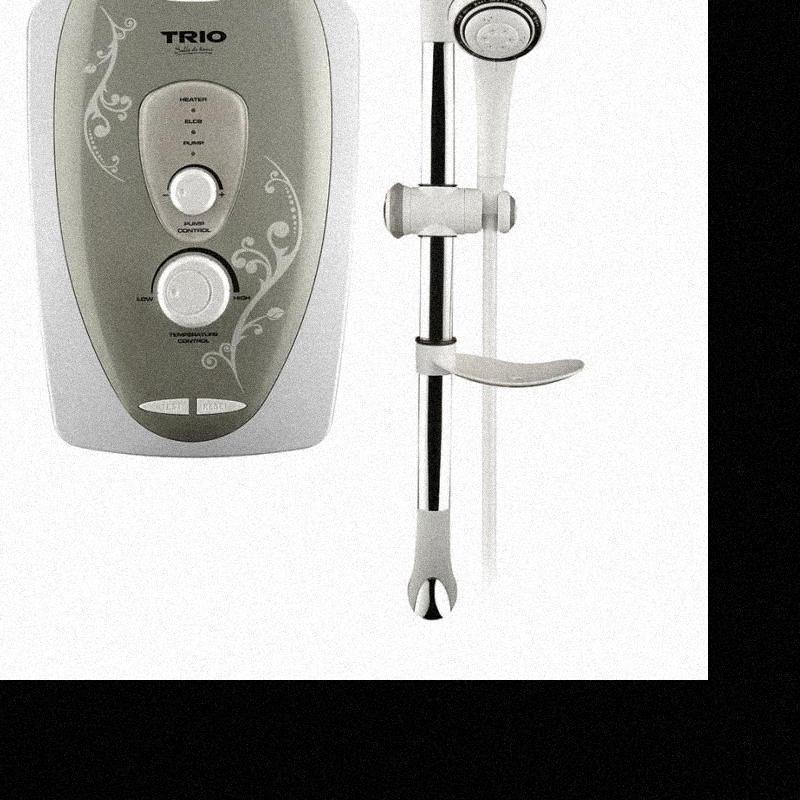Ducha: (17, 0, 595, 619)
